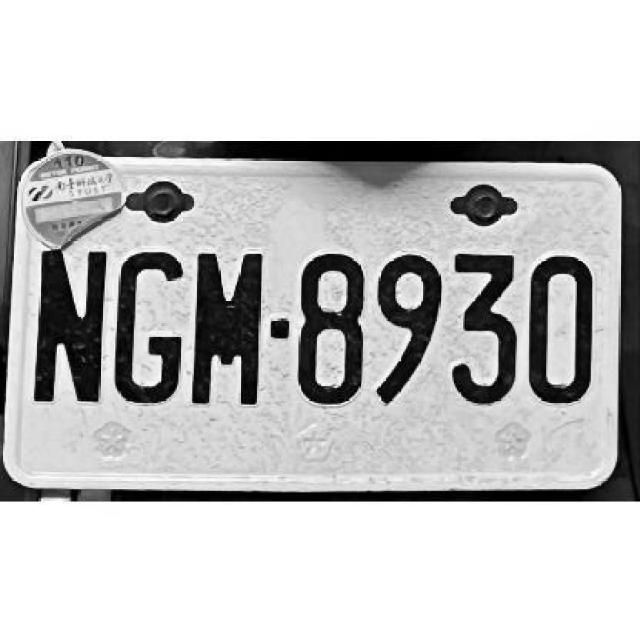-: (269, 315, 291, 340)
0: (522, 248, 596, 410)
3: (446, 246, 522, 408)
8: (291, 243, 366, 408)
9: (368, 249, 444, 403)
G: (108, 246, 186, 411)
M: (189, 246, 266, 411)
N: (28, 243, 110, 409)
